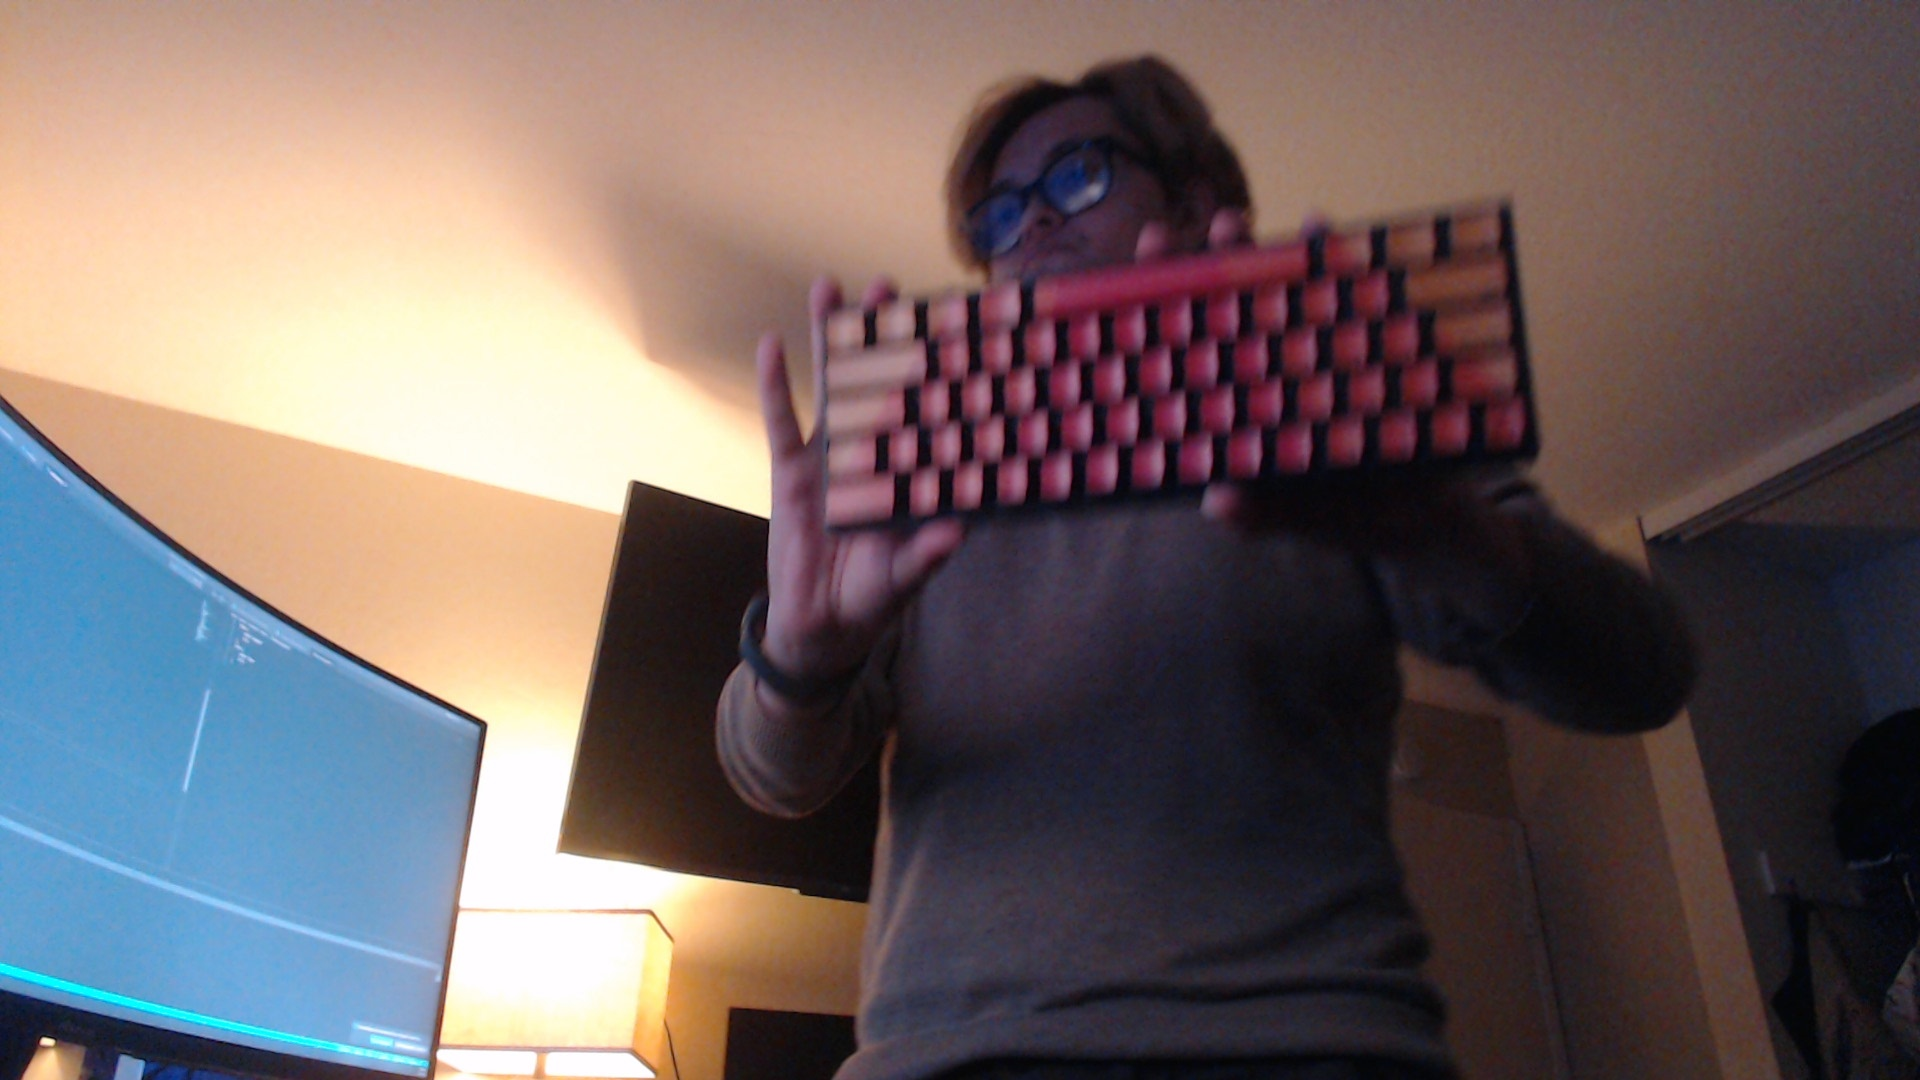keyboard: (816, 185, 1542, 543)
